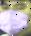with_mask: (1, 2, 31, 36)
